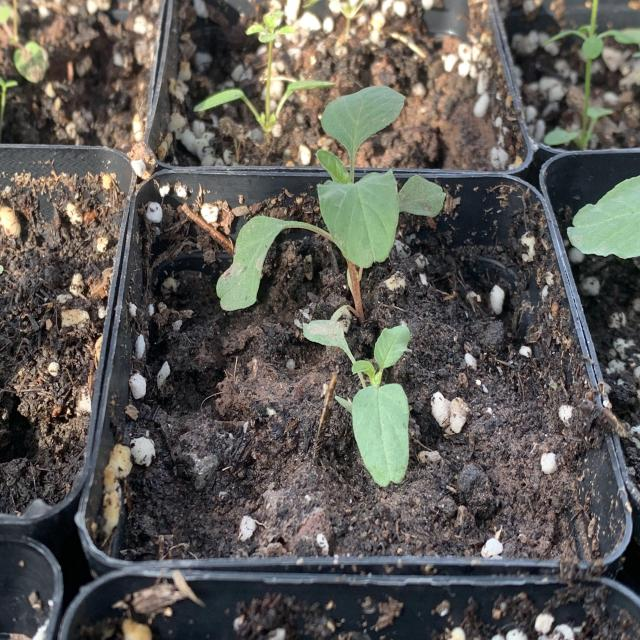pigweed: (237, 96, 431, 323), (323, 316, 458, 489)
